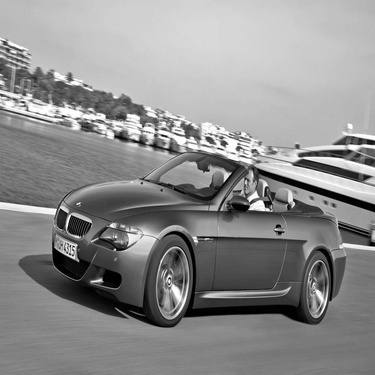car: (33, 147, 356, 332)
